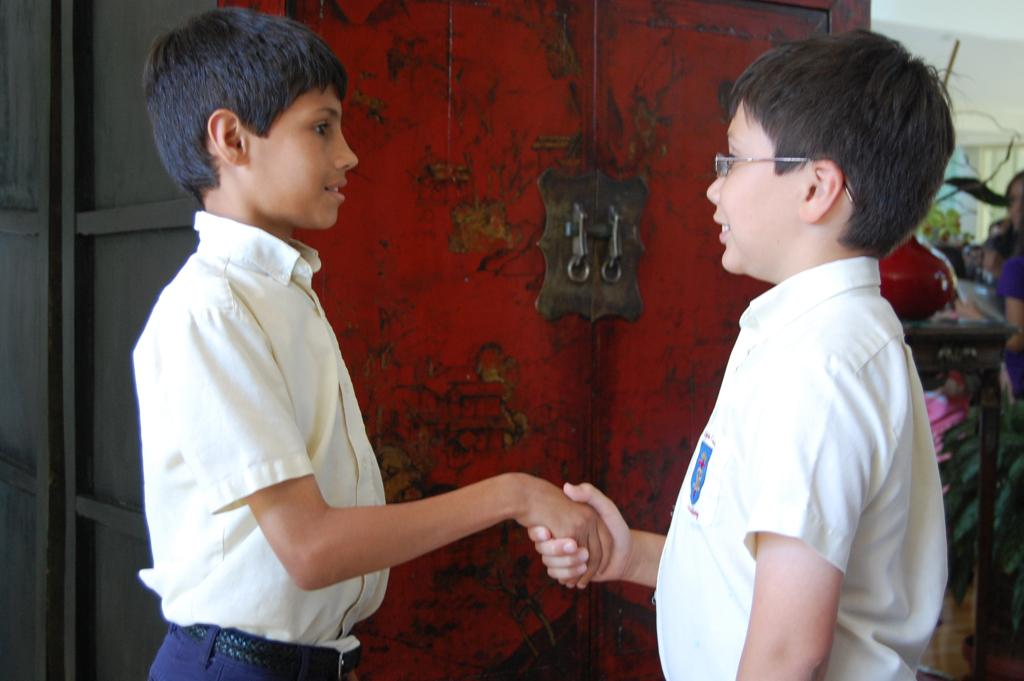face: (704, 78, 806, 272), (258, 56, 358, 230)
